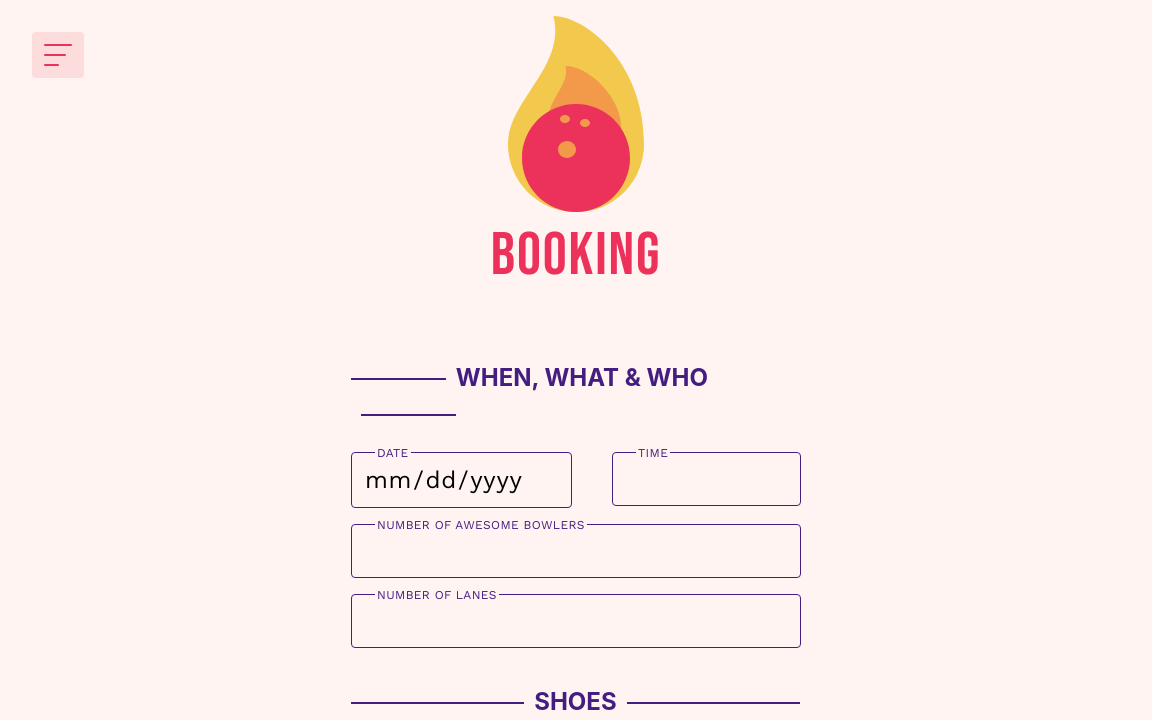
Scenario: Navigation Flow › should display two links if the menu is clicked and open
Click the picture with alt text "navicon" at point(58, 55), box [32, 32, 84, 78]
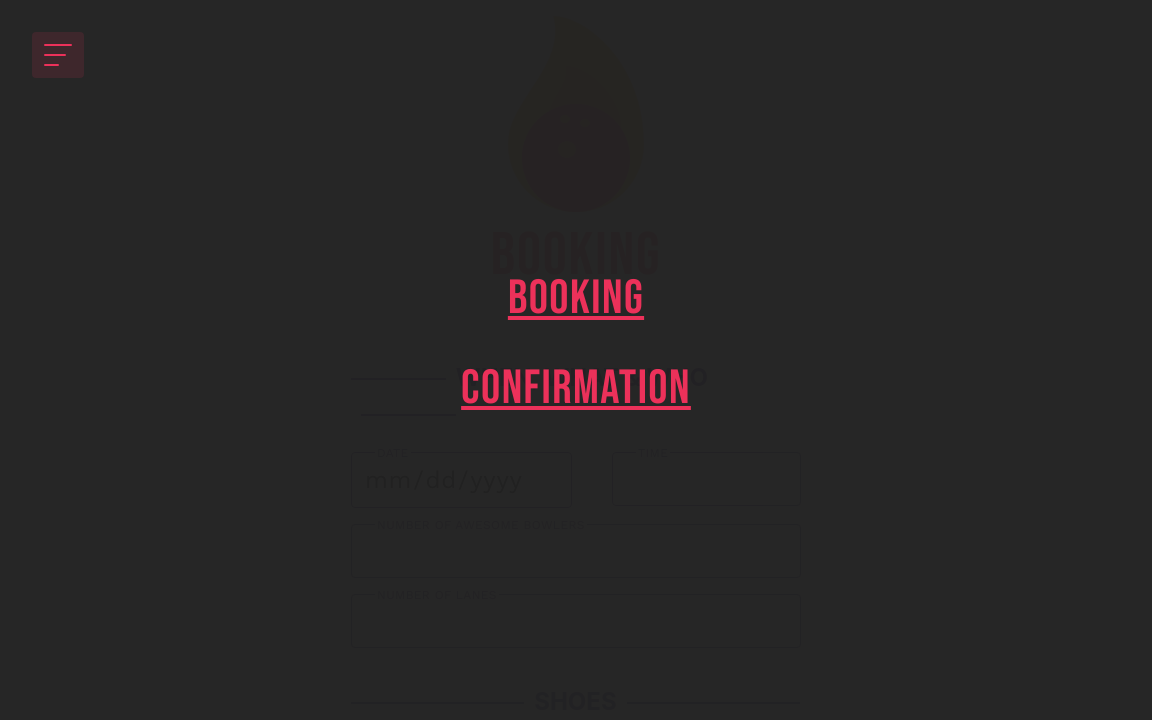
Now the number of links is 2, box [508, 270, 644, 328]; [461, 360, 691, 418]
